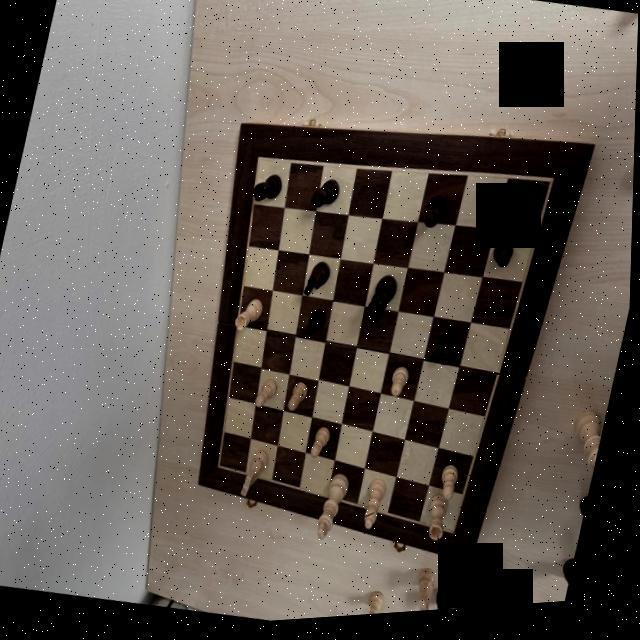chess-table-corners: (545, 180, 560, 200), (254, 156, 266, 172), (450, 530, 462, 546), (216, 464, 228, 478)
